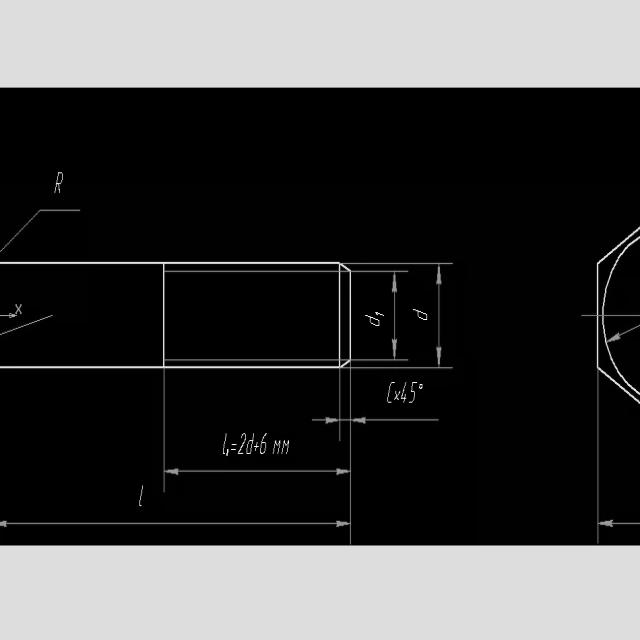marking_line: (1, 515, 350, 533), (0, 208, 89, 260), (166, 467, 350, 476), (387, 272, 402, 358), (351, 416, 440, 427), (606, 317, 640, 345), (436, 263, 445, 366), (600, 518, 640, 530), (309, 413, 341, 426)
numeric: (400, 377, 417, 409)
